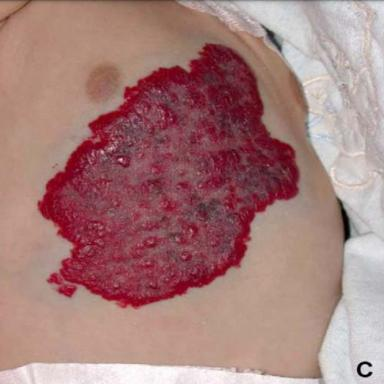Hemangiome: (38, 45, 300, 307)
